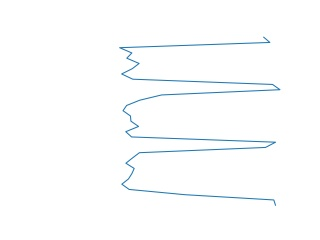majorRiverChannelBar: (117, 37, 283, 207)
